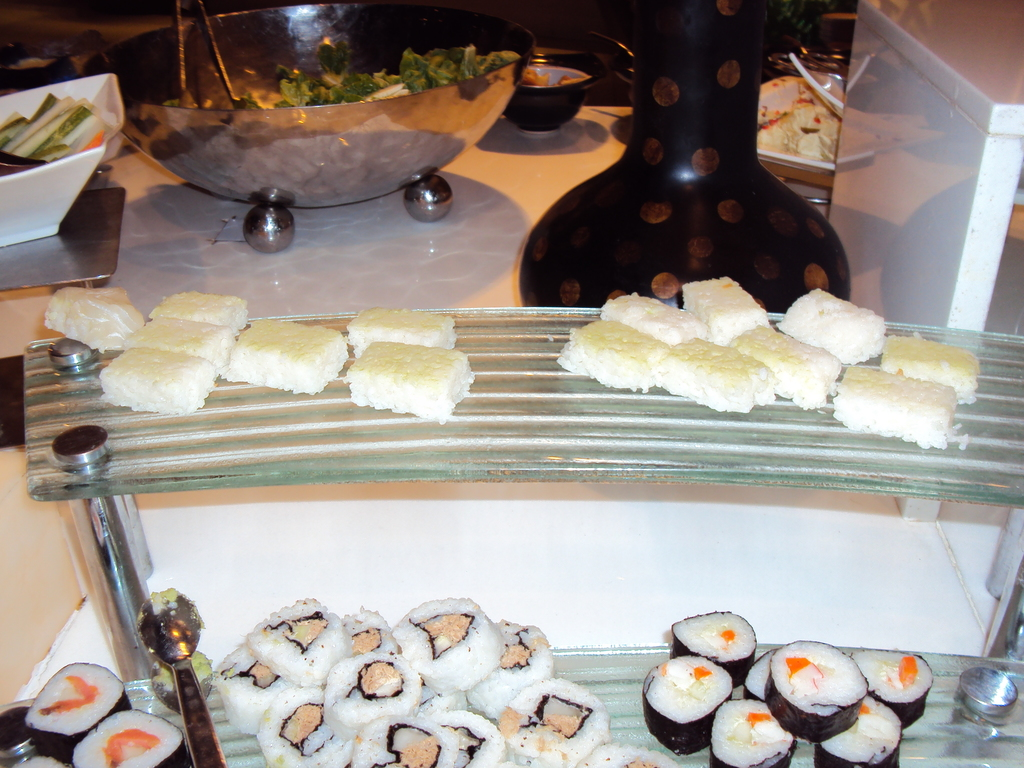sushi: (211, 601, 676, 767), (639, 613, 928, 767), (771, 653, 874, 753), (24, 662, 121, 756), (67, 708, 189, 767)
